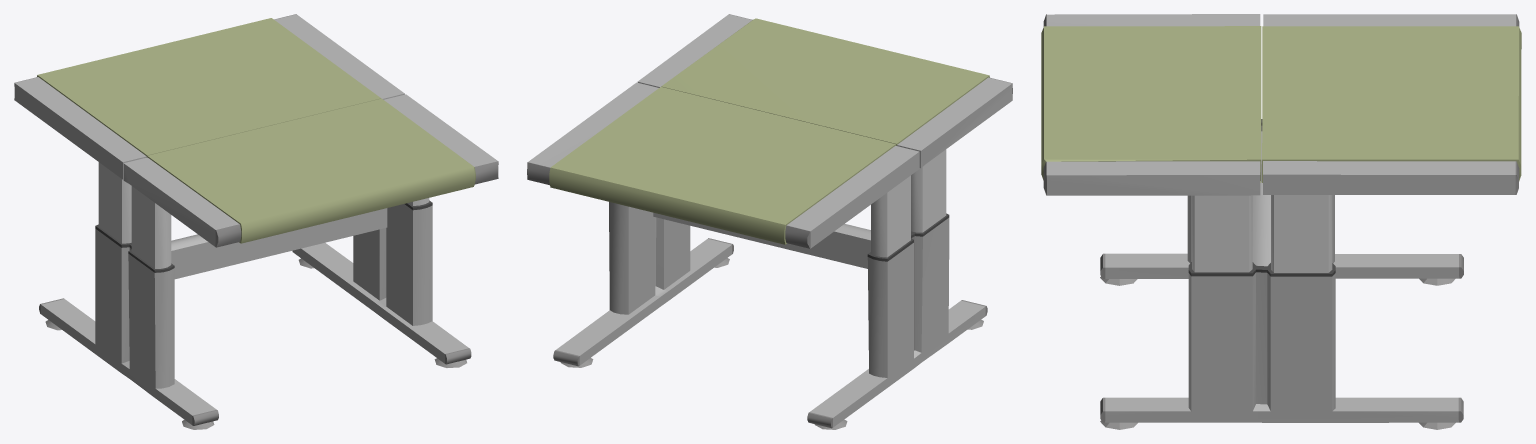
Rendered from sh_blend_swap_cc_0_technicaltable2.glb.
3 views of the same model, side by side, from view 1: azimuth 30°, elevation 25°; view 2: azimuth 150°, elevation 25°; view 3: azimuth 270°, elevation 25° (orthographic). The views are drawn at different scales.
Bounding box in the file's own units: 1.37 × 1.01 × 1.71.
